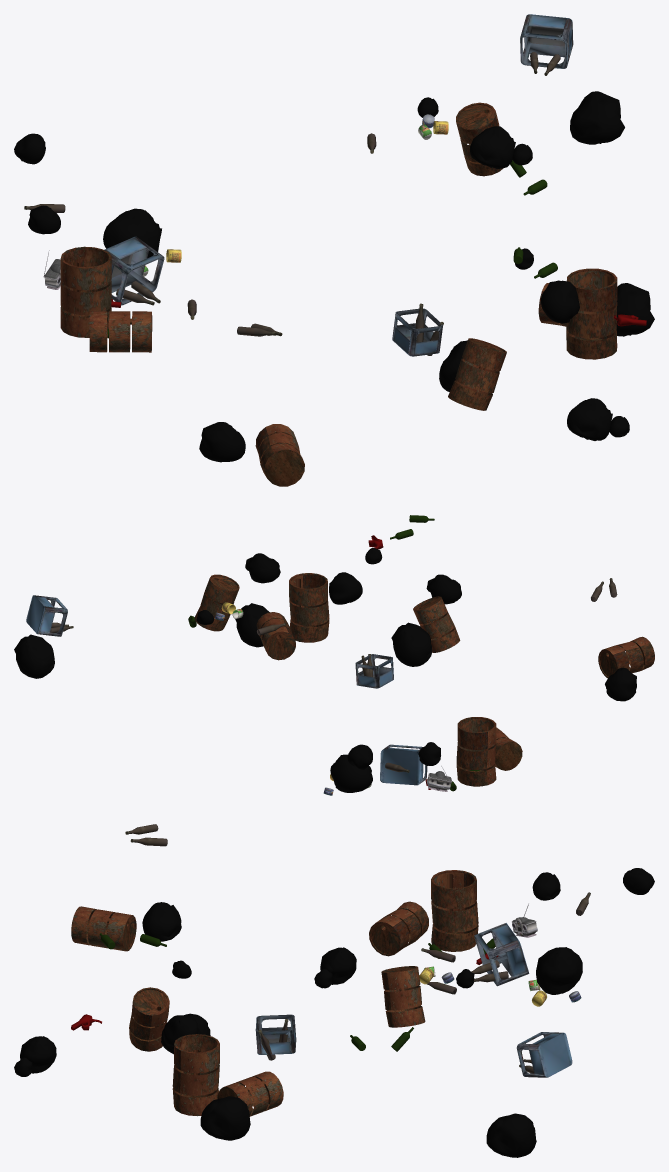
File: trash.glb
3 views of the same model, one above another, from view 1: azimuth 30°, elevation 25°; view 2: azimuth 150°, elevation 25°; view 3: azimuth 270°, elevation 25° (orthographic). The views are drawn at different scales.
Visible parts, largest first — view 1: Metal.007, Metal, Metal.006, Metal.001, Metal.012, Plastic.011, Plastic.012, Plastic.003, Metal.013, Plastic.002, Plastic.007, Plastic.008 (+7 smaller); view 2: Metal, Metal.007, Metal.006, Metal.012, Plastic.003, Metal.013, Plastic.013, Plastic.012, Metal.008, Plastic.011, Plastic.002, Plastic.007 (+9 smaller); view 3: Metal, Metal.007, Metal.013, Metal.012, Metal.001, Metal.006, Plastic.003, Plastic.011, Plastic.016, Plastic.012, Plastic.002, Metal.008 (+7 smaller).
Boxes of the visible parts, <box> form: Metal.007: <box>566,268,617,359</box>; Metal: <box>60,246,111,337</box>; Metal.006: <box>448,338,506,410</box>; Metal.001: <box>89,311,152,352</box>; Metal.012: <box>255,424,304,486</box>; Plastic.011: <box>520,14,573,68</box>; Plastic.012: <box>570,91,624,144</box>; Plastic.003: <box>104,236,164,305</box>; Metal.013: <box>456,102,503,176</box>; Plastic.002: <box>103,208,161,258</box>; Plastic.007: <box>392,308,442,356</box>; Plastic.008: <box>567,398,612,440</box>; Metal: <box>456,717,496,786</box>; Metal.007: <box>289,573,329,642</box>; Metal.006: <box>413,596,460,652</box>; Metal.012: <box>598,636,654,678</box>; Plastic.003: <box>380,744,427,785</box>; Metal.013: <box>194,574,239,631</box>; Plastic.013: <box>391,622,432,666</box>; Plastic.012: <box>14,634,54,678</box>; Metal.008: <box>256,612,295,660</box>; Plastic.011: <box>26,595,67,636</box>; Plastic.002: <box>330,754,372,792</box>; Plastic.007: <box>355,654,393,688</box>; Metal: <box>431,870,478,951</box>; Metal.007: <box>172,1034,219,1116</box>; Metal.013: <box>381,966,425,1027</box>; Metal.012: <box>71,906,136,951</box>; Metal.001: <box>369,901,428,956</box>; Metal.006: <box>129,987,169,1051</box>; Plastic.003: <box>474,923,529,986</box>; Plastic.011: <box>516,1032,572,1077</box>; Plastic.016: <box>200,1096,250,1140</box>; Plastic.012: <box>486,1113,536,1157</box>; Plastic.002: <box>536,947,582,994</box>; Metal.008: <box>217,1071,283,1116</box>.
Bounding box in the file's own units: 5.84 × 1.63 × 5.9.
11 materials, 7 textured.
